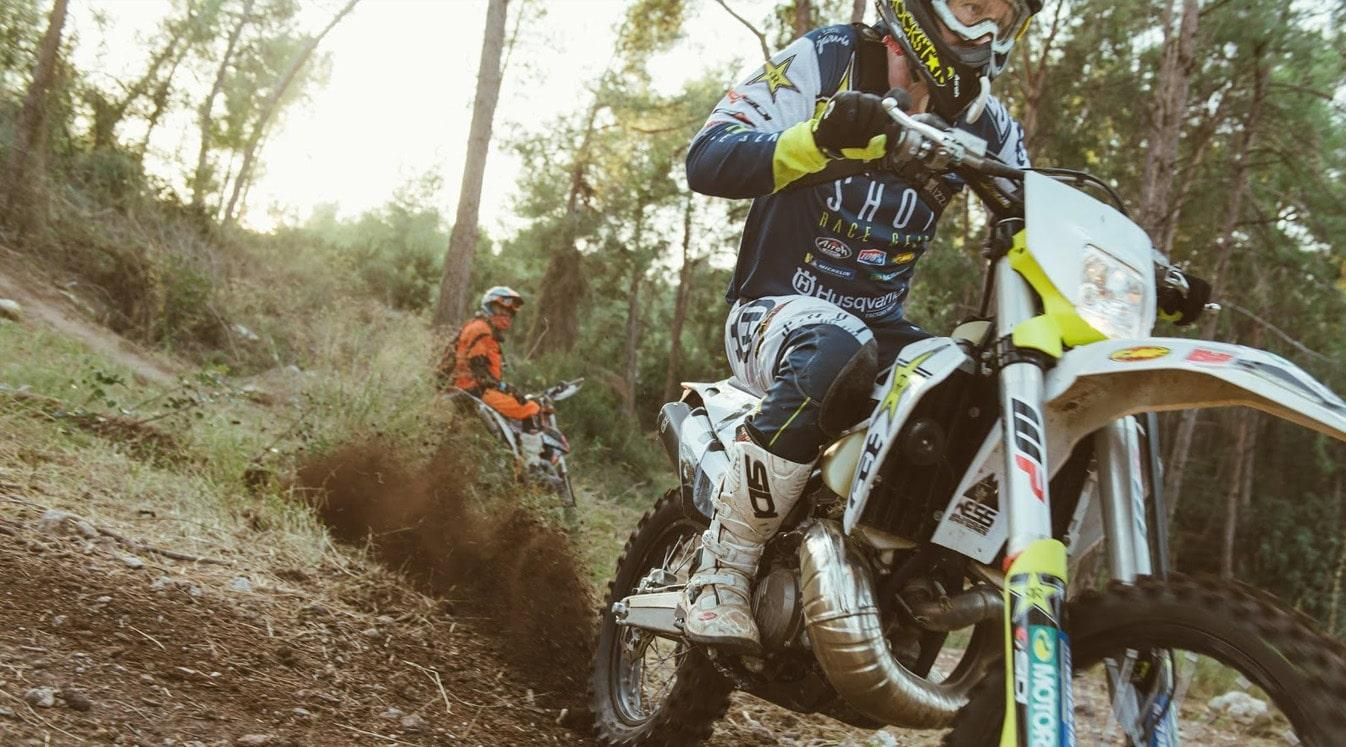helmet: (837, 0, 1096, 81), (470, 277, 534, 348)
